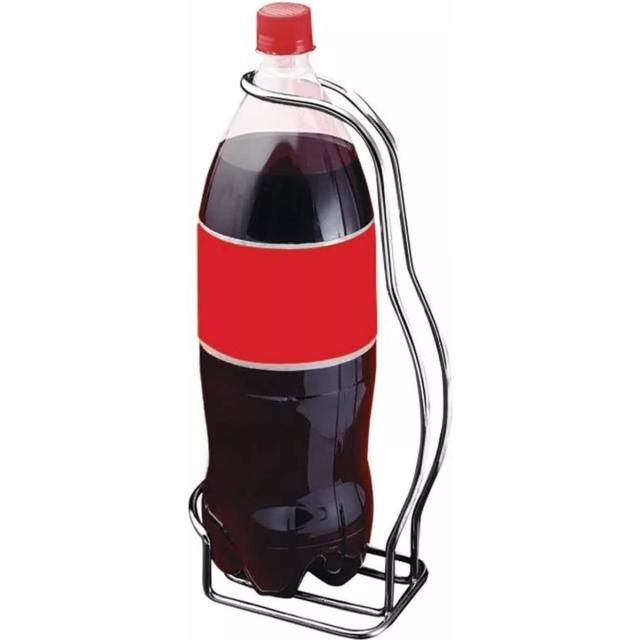bottle: (198, 2, 376, 598)
